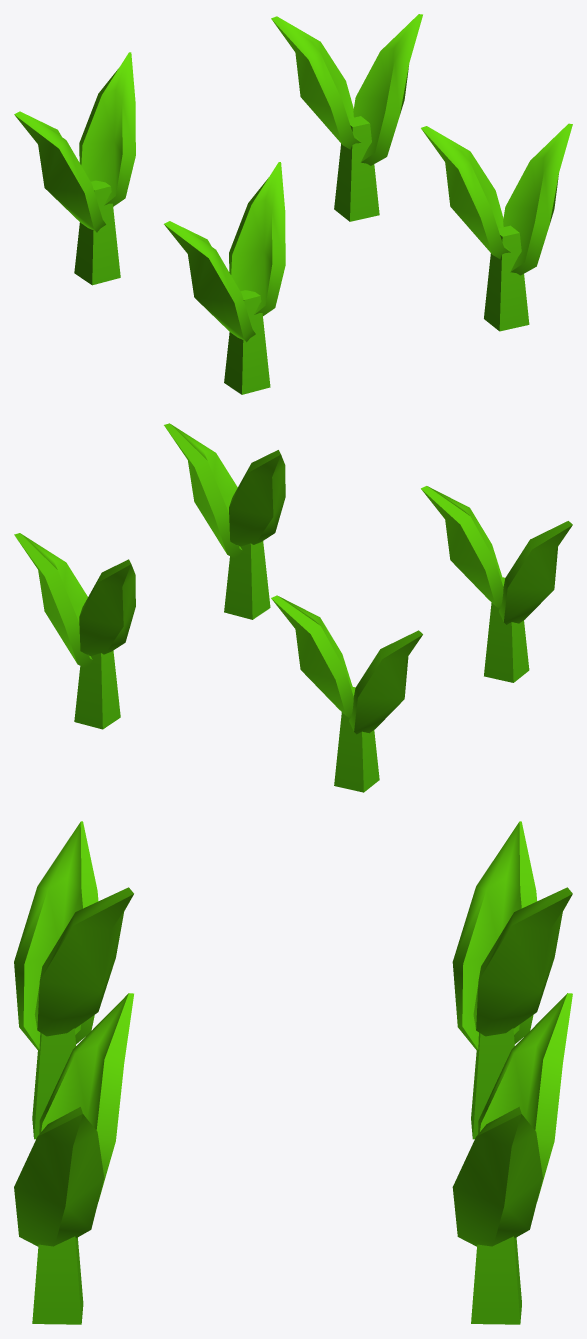
File: Farm_Crop_Corn_Step_01.glb
3 renders of one model, top to bottom at view 1: azimuth 30°, elevation 25°; view 2: azimuth 150°, elevation 25°; view 3: azimuth 270°, elevation 25°, orthographic. The views are drawn at different scales.
Parts seen in each view (by area): view 1: Farm_Crop_Corn_Step_01; view 2: Farm_Crop_Corn_Step_01; view 3: Farm_Crop_Corn_Step_01.
Boxes of the visible parts, x1,y1,x2,y2 form: Farm_Crop_Corn_Step_01: [14, 14, 572, 394]; Farm_Crop_Corn_Step_01: [14, 423, 572, 792]; Farm_Crop_Corn_Step_01: [14, 821, 572, 1324].
Bounding box in the file's own units: 1.58 × 0.7068 × 1.27.
Materials: 1 (1 with a texture image).
